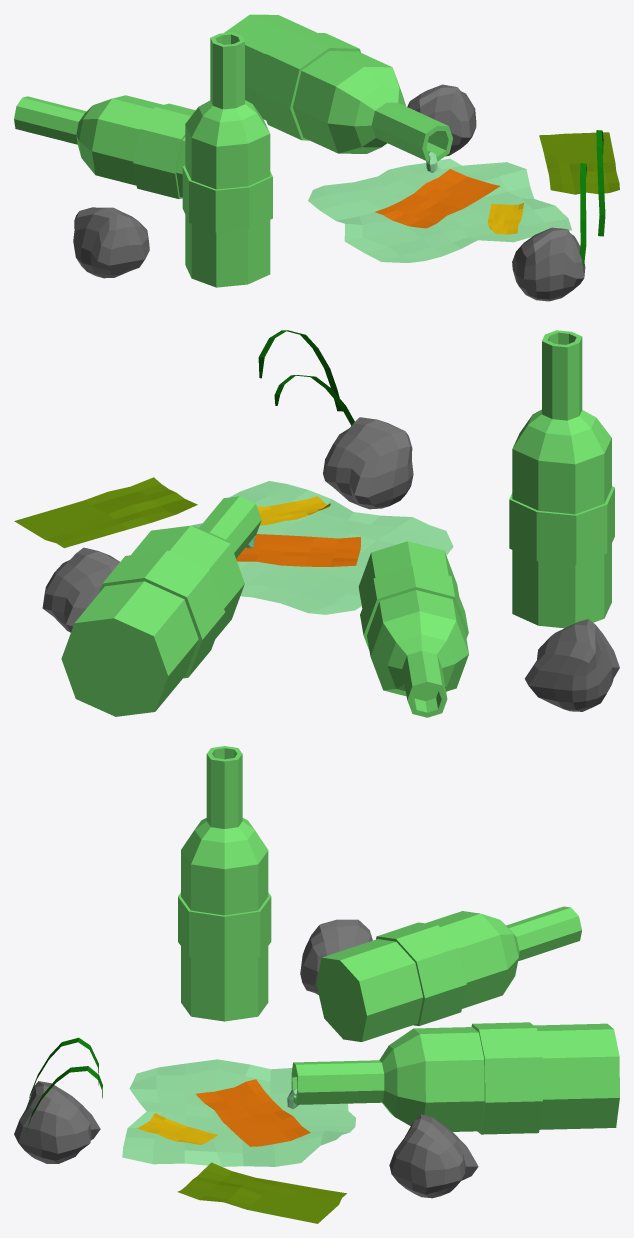
File: Portada.fbx
3 renders of one model, top to bottom at view 1: azimuth 30°, elevation 25°; view 2: azimuth 150°, elevation 25°; view 3: azimuth 270°, elevation 25°, orthographic. The views are drawn at different scales.
Parts seen in each view (by area): view 1: botella1, botella3, charco, botella2, piedra2, piedra3, billete/papel, Boton PLAY, piedra1, boton AJUSTES, pasto1, pasto2; view 2: botella1, botella3, botella2, charco, piedra3, billete/papel, piedra2, piedra1, Boton PLAY, boton AJUSTES, pasto1; view 3: botella1, botella2, botella3, charco, billete/papel, piedra1, piedra3, Boton PLAY, piedra2, boton AJUSTES.
Boxes of the visible parts, left/top/right/bottom form: botella1: left=224, top=14, right=452, bottom=161; botella3: left=182, top=32, right=272, bottom=287; charco: left=308, top=158, right=571, bottom=262; botella2: left=14, top=95, right=195, bottom=198; piedra2: left=73, top=207, right=149, bottom=278; piedra3: left=512, top=227, right=585, bottom=301; billete/papel: left=539, top=132, right=619, bottom=194; Boton PLAY: left=375, top=169, right=500, bottom=228; piedra1: left=407, top=84, right=476, bottom=156; boton AJUSTES: left=487, top=203, right=523, bottom=234; pasto1: left=596, top=130, right=605, bottom=236; pasto2: left=579, top=163, right=586, bottom=265; botella1: left=61, top=496, right=261, bottom=716; botella3: left=509, top=330, right=614, bottom=628; botella2: left=358, top=541, right=468, bottom=717; charco: left=191, top=481, right=453, bottom=614; piedra3: left=323, top=417, right=413, bottom=509; billete/papel: left=14, top=477, right=197, bottom=548; piedra2: left=524, top=619, right=619, bottom=711; piedra1: left=42, top=547, right=119, bottom=632; Boton PLAY: left=236, top=534, right=360, bottom=566; boton AJUSTES: left=257, top=496, right=330, bottom=525; pasto1: left=258, top=330, right=342, bottom=411; botella1: left=291, top=1022, right=619, bottom=1134; botella2: left=316, top=906, right=581, bottom=1041; botella3: left=178, top=746, right=271, bottom=1021; charco: left=122, top=1059, right=355, bottom=1166; billete/papel: left=177, top=1162, right=346, bottom=1223; piedra1: left=389, top=1114, right=478, bottom=1198; piedra3: left=14, top=1081, right=100, bottom=1163; Boton PLAY: left=196, top=1079, right=310, bottom=1146; piedra2: left=300, top=919, right=372, bottom=994; boton AJUSTES: left=137, top=1113, right=217, bottom=1144.
Size of what is drawn, in the model's own units: 8.21 by 3.93 by 7.71.
